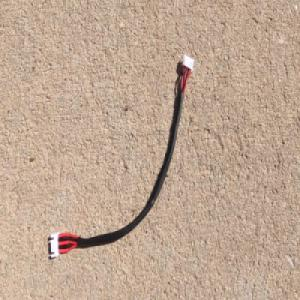Wire: (49, 52, 195, 260)
